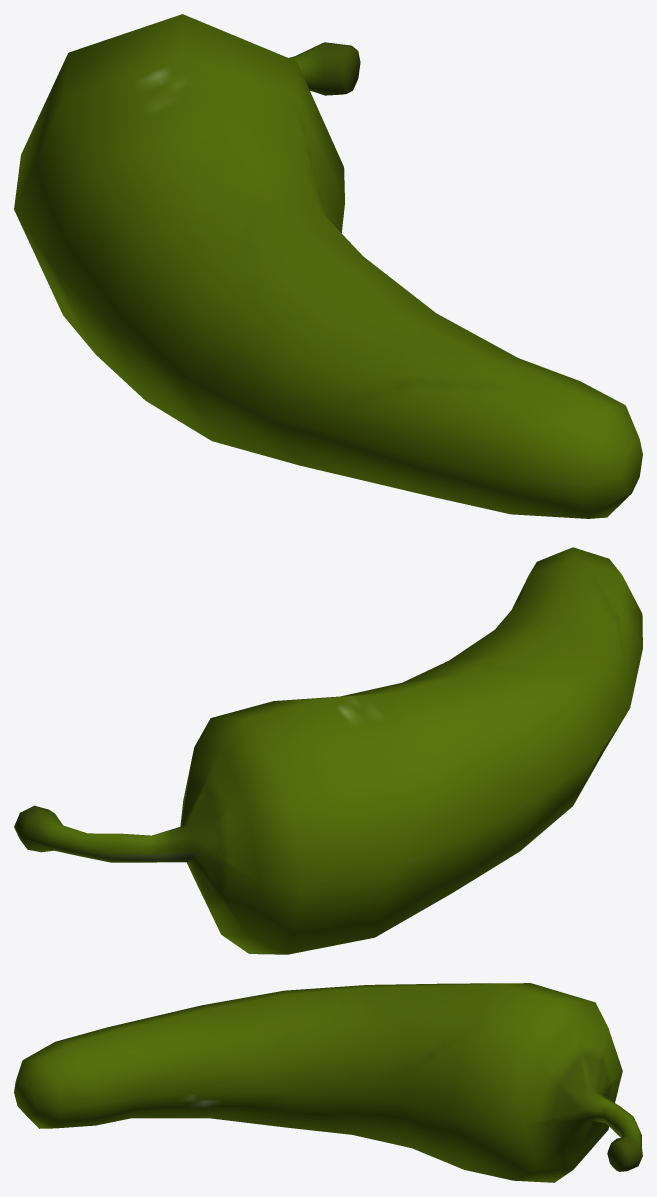
Rendered from Jalapenos.FBX.
The picture shows the model from 3 angles, top to bottom: view 1: azimuth 30°, elevation 25°; view 2: azimuth 150°, elevation 25°; view 3: azimuth 270°, elevation 25°; orthographic projection. The views are drawn at different scales.
Parts seen in each view (by area): view 1: Jalapenos; view 2: Jalapenos; view 3: Jalapenos.
Boxes of the visible parts, x1=… form: Jalapenos: x1=14, y1=14, x2=642, y2=518; Jalapenos: x1=14, y1=547, x2=642, y2=954; Jalapenos: x1=14, y1=983, x2=642, y2=1182.
Bounding box in the file's own units: 4.43 × 2.8 × 8.54.
